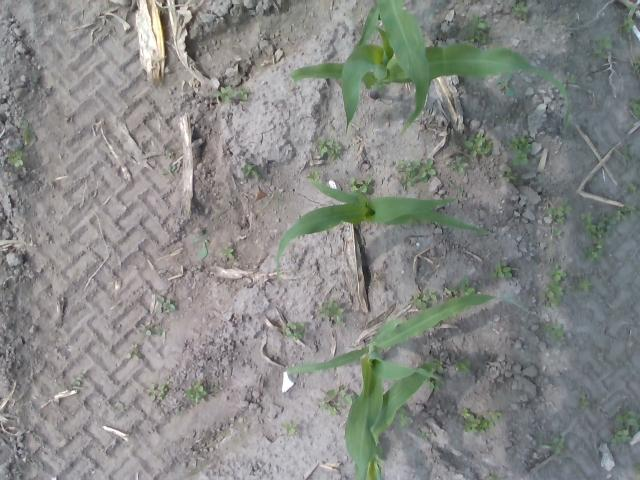Maize: (285, 295, 538, 480), (290, 41, 570, 134), (276, 179, 498, 278), (356, 0, 431, 131), (362, 364, 435, 480)
Weeds: (580, 210, 616, 260), (459, 407, 504, 435), (396, 158, 436, 188), (609, 407, 640, 445), (317, 386, 353, 417), (542, 264, 566, 308), (464, 12, 492, 44), (462, 132, 493, 159), (507, 134, 532, 167), (544, 198, 572, 226), (410, 288, 437, 314), (446, 278, 476, 300), (538, 434, 566, 456), (316, 138, 344, 160), (212, 86, 250, 102), (318, 300, 344, 323), (592, 34, 614, 60), (185, 379, 206, 405), (15, 118, 36, 144), (538, 322, 564, 342), (391, 406, 414, 428), (491, 262, 519, 280), (619, 5, 637, 33), (347, 175, 373, 194), (191, 232, 209, 259), (148, 381, 170, 403), (280, 321, 305, 340), (495, 73, 515, 96), (510, 0, 530, 23), (616, 202, 640, 221), (240, 162, 260, 182), (156, 295, 176, 314), (7, 148, 25, 168), (448, 156, 468, 174), (573, 278, 594, 294), (499, 166, 520, 182), (428, 374, 446, 392), (280, 420, 298, 437), (428, 356, 444, 373), (576, 394, 593, 410), (454, 358, 472, 373), (140, 324, 162, 336), (624, 181, 640, 195), (220, 244, 234, 258), (306, 169, 321, 182), (630, 98, 640, 117), (161, 165, 178, 174), (621, 146, 631, 160), (633, 54, 640, 74), (70, 376, 82, 387), (418, 430, 430, 440), (633, 463, 640, 480), (126, 352, 140, 360), (536, 19, 545, 31), (112, 400, 125, 408), (484, 474, 501, 480), (165, 148, 175, 158), (566, 73, 575, 84), (552, 228, 562, 236), (434, 322, 441, 328), (501, 116, 507, 122)
